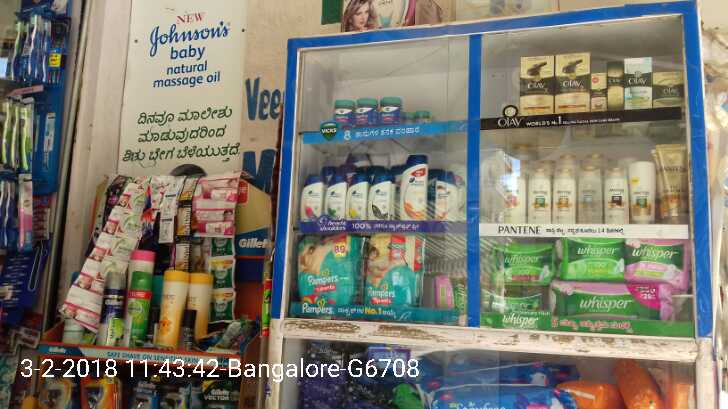beauty: (553, 49, 589, 116), (519, 54, 554, 118), (398, 152, 426, 219), (627, 161, 656, 220), (623, 59, 654, 112), (552, 163, 578, 223), (367, 170, 396, 223), (602, 163, 628, 222), (295, 175, 327, 222), (528, 167, 552, 223), (650, 72, 682, 110), (323, 174, 347, 222), (348, 173, 370, 219), (605, 62, 625, 110)
pharmacy: (548, 282, 676, 334), (295, 231, 366, 315), (361, 231, 426, 313), (621, 234, 691, 286), (560, 238, 624, 282), (488, 282, 552, 325), (488, 245, 556, 284), (377, 95, 405, 125), (331, 96, 356, 129), (354, 96, 378, 126)
